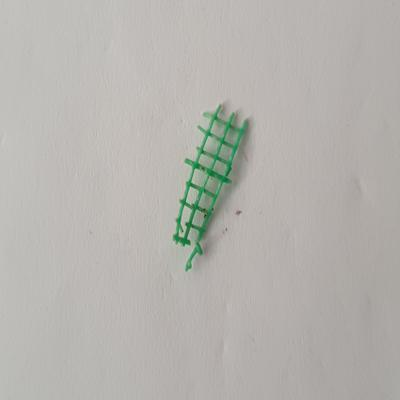plastic: (161, 98, 258, 275)
